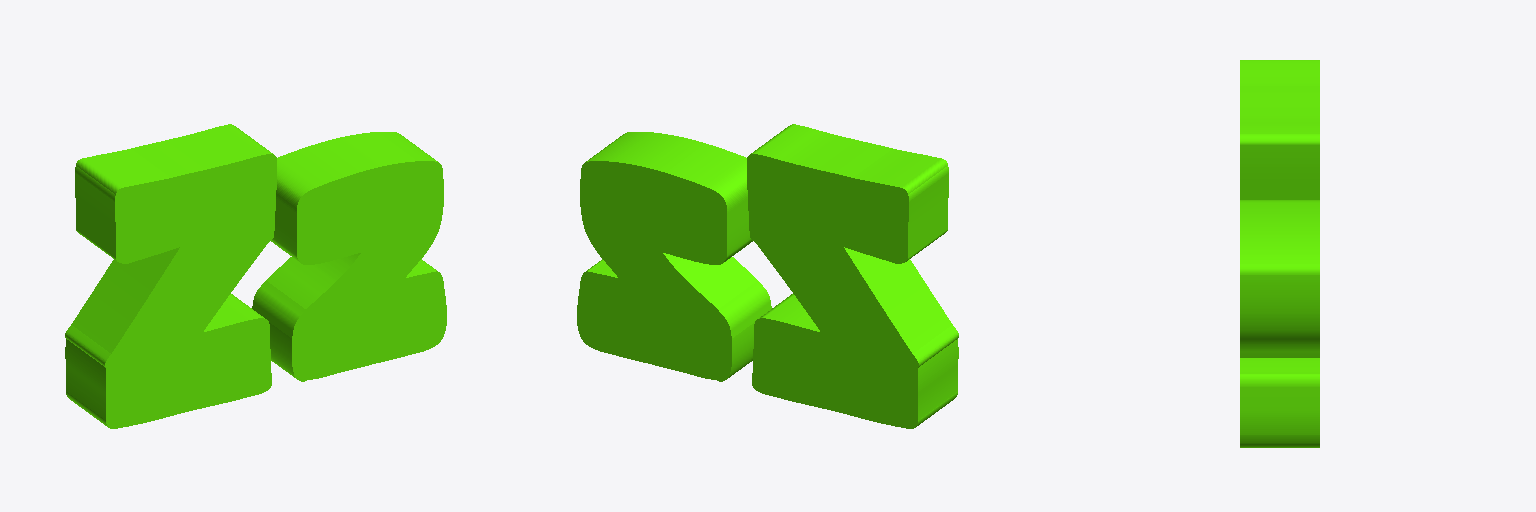
The model's file is Letter_z.obj.
The picture shows the model from 3 angles: view 1: azimuth 30°, elevation 25°; view 2: azimuth 150°, elevation 25°; view 3: azimuth 270°, elevation 25°; orthographic projection.
Parts seen in each view (by area): view 1: Text; view 2: Text; view 3: Text.
Part boxes in pixels (left/top/right/bottom): Text: left=65, top=124, right=446, bottom=428; Text: left=577, top=124, right=958, bottom=428; Text: left=1240, top=60, right=1319, bottom=447.
Size of the model in its own units: 0.9832 by 0.6613 by 0.2.